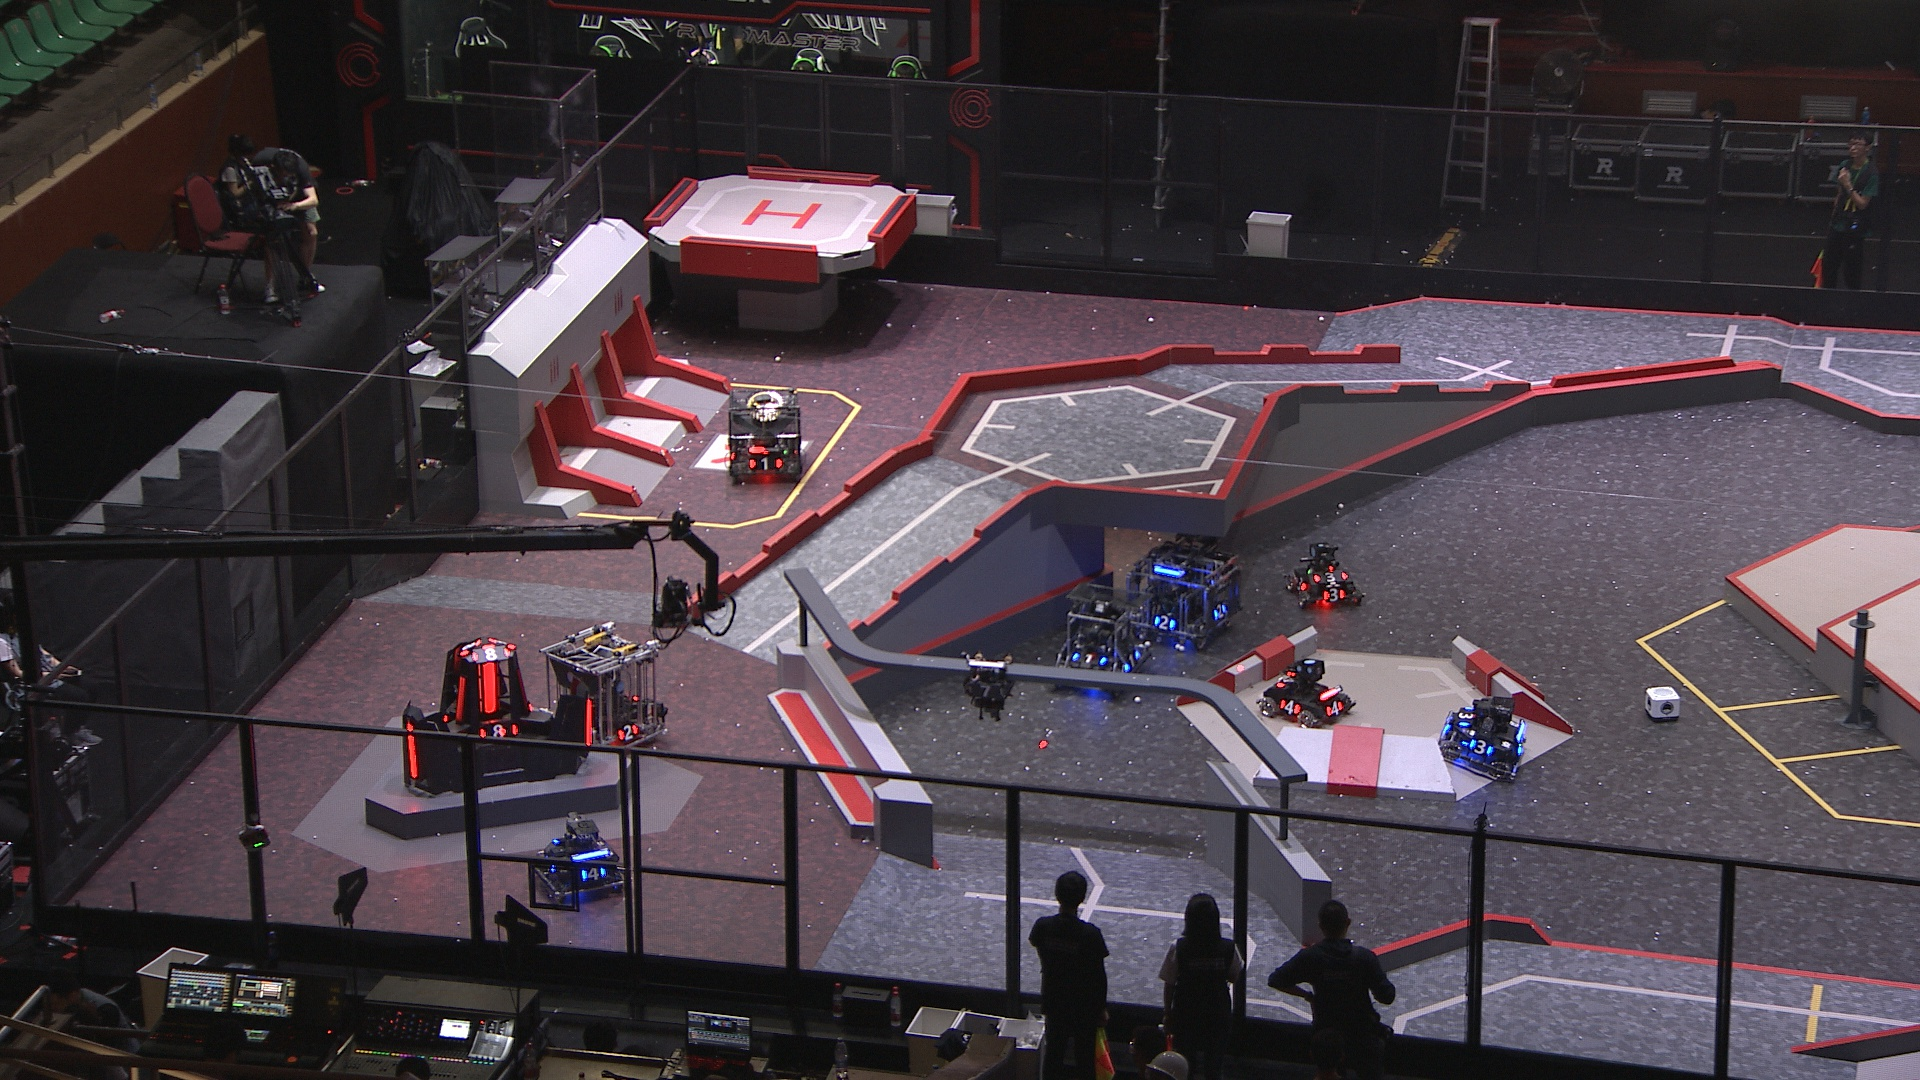armor: (476, 661, 502, 713), (405, 719, 419, 779), (745, 456, 789, 475), (477, 723, 520, 741), (1069, 651, 1109, 666), (471, 647, 513, 661), (613, 723, 640, 742), (968, 684, 1004, 699), (1122, 647, 1143, 671), (584, 694, 593, 746), (455, 676, 465, 723), (1150, 613, 1176, 632), (1468, 738, 1494, 757), (578, 866, 608, 882), (1319, 585, 1346, 603), (1276, 699, 1302, 717), (1309, 571, 1348, 583), (1321, 699, 1346, 716), (1457, 705, 1476, 728), (458, 640, 477, 657), (1273, 676, 1296, 690), (1215, 603, 1232, 618), (1295, 578, 1311, 593)
base: (398, 636, 597, 799)
car: (539, 621, 666, 756), (1121, 534, 1247, 650), (1050, 583, 1150, 698), (723, 384, 807, 488), (531, 812, 626, 905), (1437, 694, 1531, 777), (1255, 654, 1357, 727), (1280, 538, 1364, 613)
watcher: (957, 651, 1017, 723)
